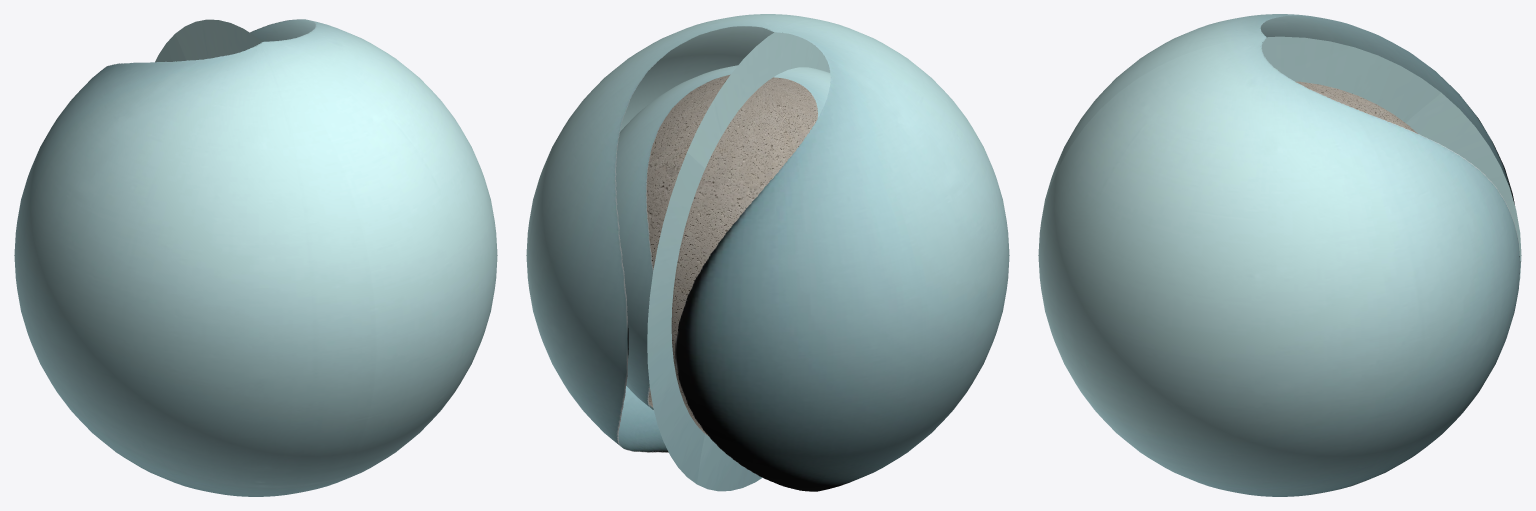
File: Neptune_planet.fbx
The picture shows the model from 3 angles, left to right: view 1: azimuth 30°, elevation 25°; view 2: azimuth 150°, elevation 25°; view 3: azimuth 270°, elevation 25°; orthographic projection.
Parts seen in each view (by area): view 1: Neptune2, Neptune1; view 2: Neptune2, Neptune1, Neptune_mantel, Neptune_mantel1; view 3: Neptune1, Neptune2, Neptune_mantel1.
Part boxes in pixels (bbox=[...]): Neptune2: bbox=[14, 19, 376, 496]; Neptune1: bbox=[155, 19, 497, 488]; Neptune2: bbox=[647, 19, 1009, 491]; Neptune1: bbox=[526, 14, 822, 484]; Neptune_mantel: bbox=[673, 82, 817, 428]; Neptune_mantel1: bbox=[646, 74, 775, 435]; Neptune1: bbox=[1038, 36, 1520, 496]; Neptune2: bbox=[1040, 14, 1521, 281]; Neptune_mantel1: bbox=[1297, 82, 1413, 131].
Size of the model in its own units: 60.3 by 60.3 by 60.3.
